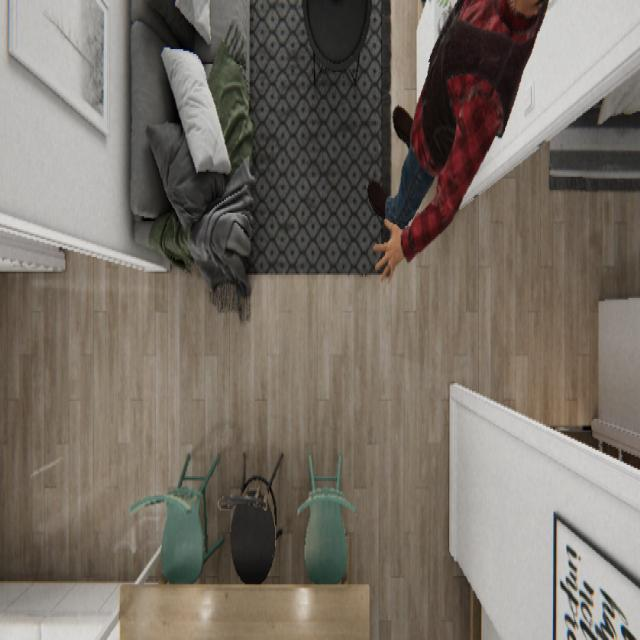Human: (366, 0, 550, 285)
